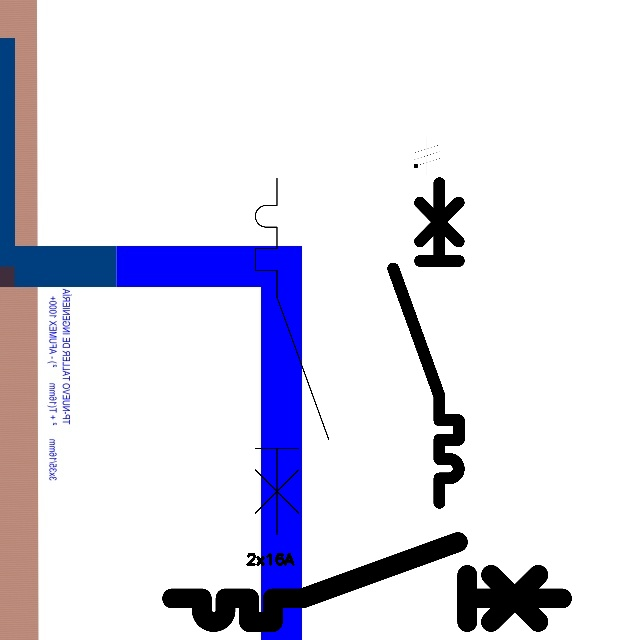interruptor_termomagnetico: (162, 532, 572, 632), (246, 169, 338, 544), (385, 175, 467, 511)
